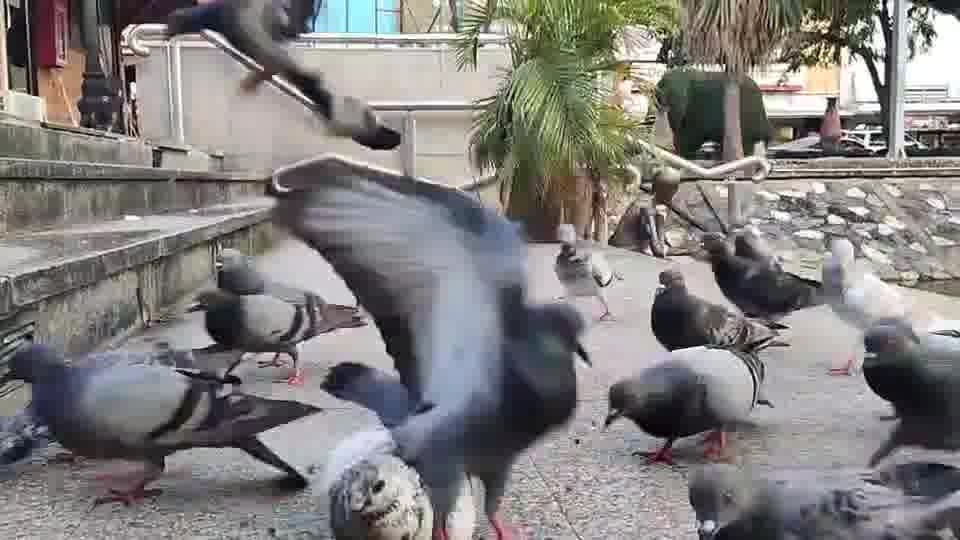Pigeon: (268, 153, 593, 538), (6, 336, 322, 512), (166, 0, 402, 151), (183, 248, 368, 384), (602, 344, 764, 466), (649, 268, 790, 408), (810, 238, 920, 376), (860, 317, 959, 467), (698, 224, 821, 323), (551, 222, 624, 322)
